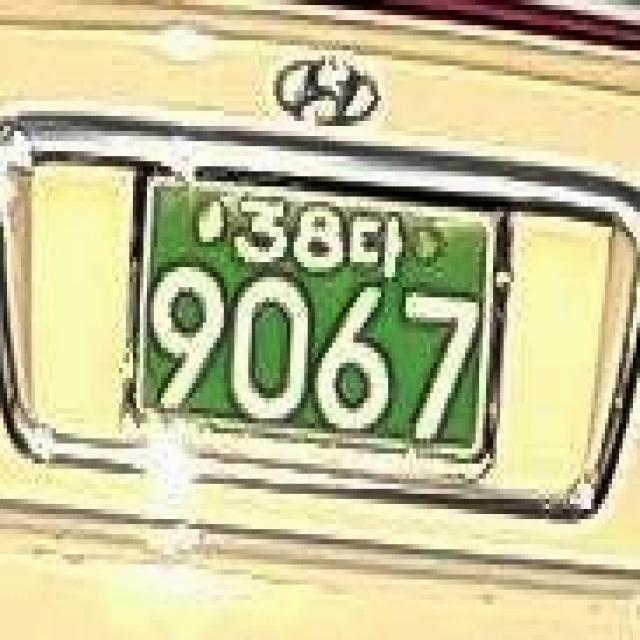illegal_plate: (115, 147, 522, 501)
